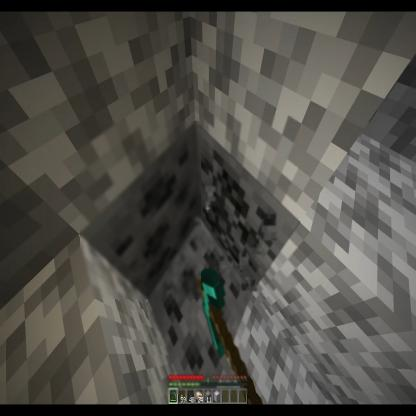coal ore: (80, 121, 201, 299), (193, 116, 298, 296), (148, 222, 250, 394)
